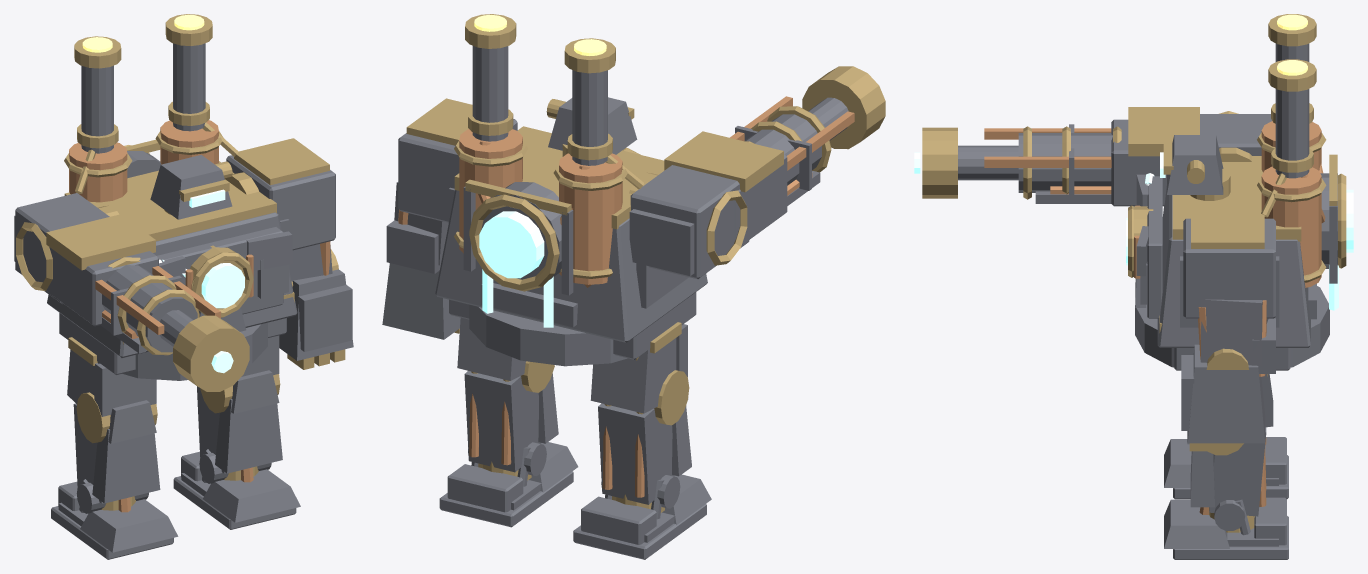
The model's file is gearforge_titan_lod1.glb.
3 views of the same model, side by side, from view 1: azimuth 30°, elevation 25°; view 2: azimuth 150°, elevation 25°; view 3: azimuth 270°, elevation 25° (orthographic). The views are drawn at different scales.
Parts seen in each view (by area): view 1: gearforge_titan_dark_iron_lod1, gearforge_titan_brass_lod1, gearforge_titan_copper_lod1, gearforge_titan_aether_glow_lod1, gearforge_titan_furnace_glow_lod1; view 2: gearforge_titan_dark_iron_lod1, gearforge_titan_brass_lod1, gearforge_titan_copper_lod1, gearforge_titan_aether_glow_lod1, gearforge_titan_furnace_glow_lod1; view 3: gearforge_titan_dark_iron_lod1, gearforge_titan_brass_lod1, gearforge_titan_copper_lod1, gearforge_titan_aether_glow_lod1, gearforge_titan_furnace_glow_lod1.
Boxes of the visible parts, <box> form: gearforge_titan_dark_iron_lod1: <box>14,43,353,559</box>; gearforge_titan_brass_lod1: <box>16,14,345,510</box>; gearforge_titan_copper_lod1: <box>69,120,330,512</box>; gearforge_titan_aether_glow_lod1: <box>159,189,244,373</box>; gearforge_titan_furnace_glow_lod1: <box>82,14,204,52</box>; gearforge_titan_dark_iron_lod1: <box>382,46,848,559</box>; gearforge_titan_brass_lod1: <box>406,14,885,512</box>; gearforge_titan_copper_lod1: <box>398,96,854,497</box>; gearforge_titan_aether_glow_lod1: <box>479,211,553,327</box>; gearforge_titan_furnace_glow_lod1: <box>474,15,606,55</box>; gearforge_titan_dark_iron_lod1: <box>958,43,1337,559</box>; gearforge_titan_brass_lod1: <box>922,14,1346,532</box>; gearforge_titan_copper_lod1: <box>984,121,1325,514</box>; gearforge_titan_aether_glow_lod1: <box>914,152,1353,310</box>; gearforge_titan_furnace_glow_lod1: <box>1277,14,1307,75</box>.
Bounding box in the file's own units: 7.8 × 11.39 × 9.64.
